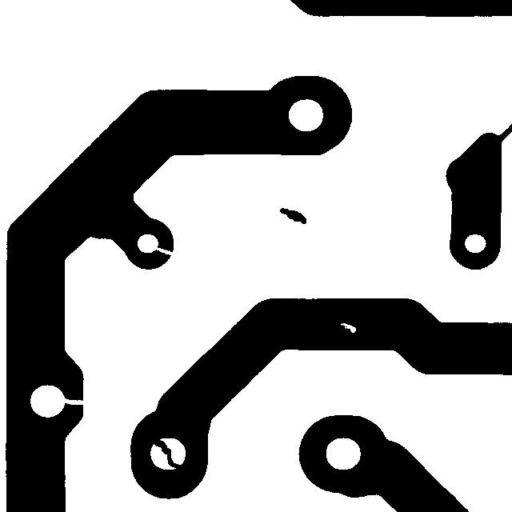copper: (272, 200, 314, 231)
open: (143, 240, 183, 262), (54, 390, 93, 412)
pin-hole: (333, 315, 363, 340)
short: (146, 431, 190, 477)
